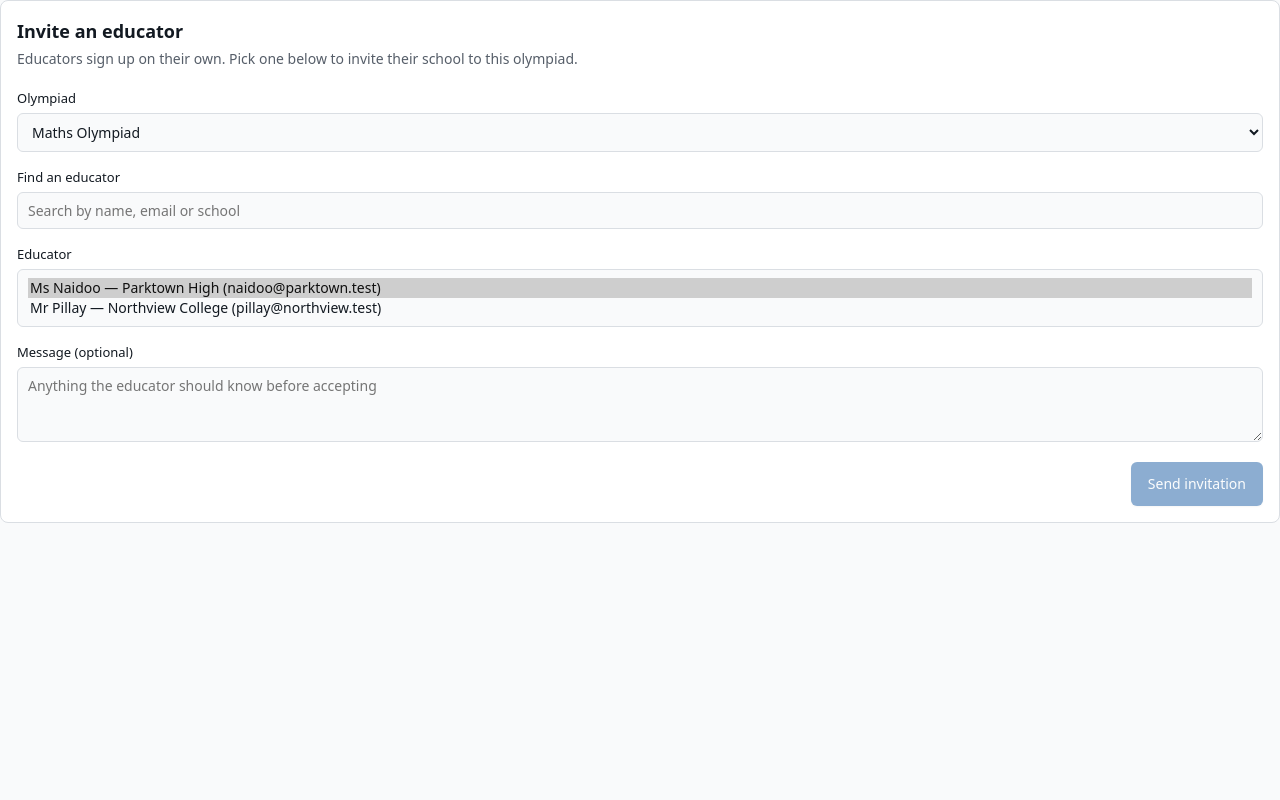
Test: InviteEducatorForm › shows the backend's reason for refusing and stays on the form
Select "Ms Naidoo — Parktown High (naidoo@parktown.test)" in the dropdown labelled "Educator" at (640, 298), box [17,269,1263,327]
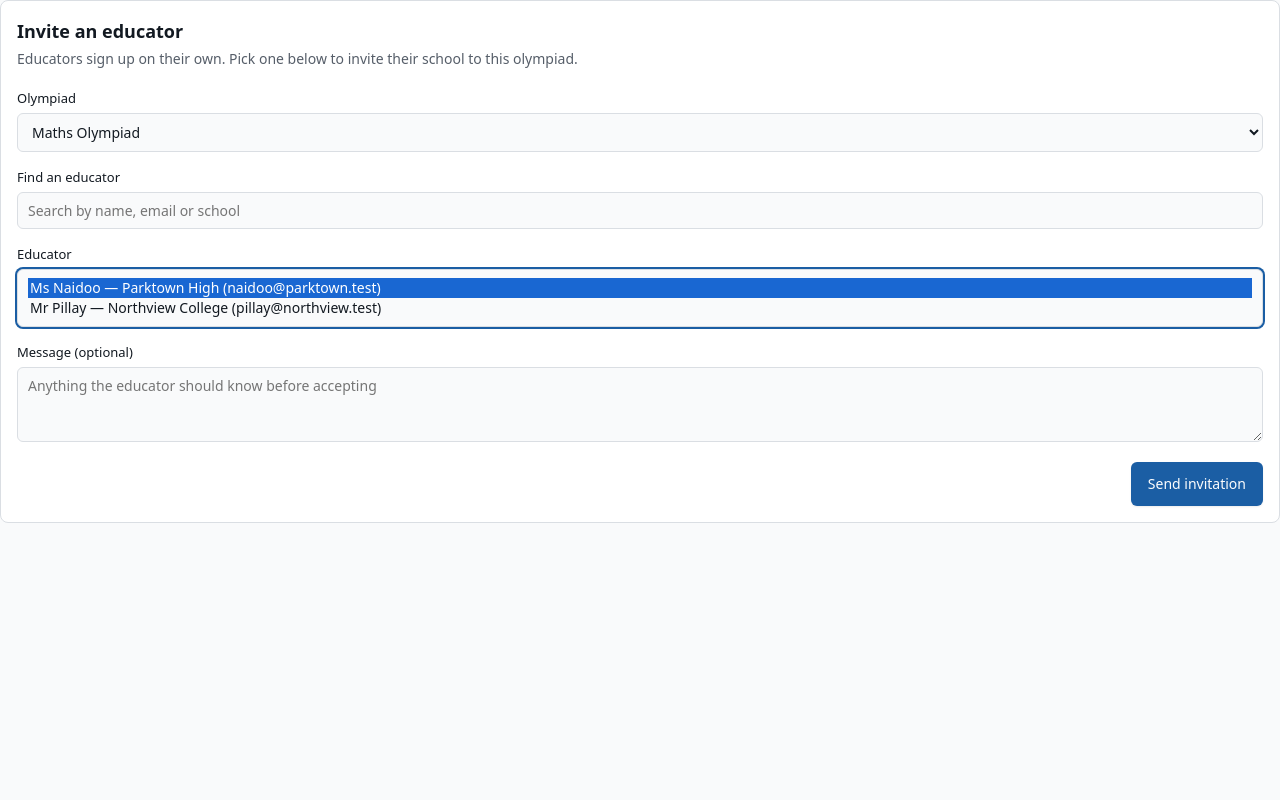
Click the button "Send invitation" at (1197, 484), box [1131,462,1263,506]
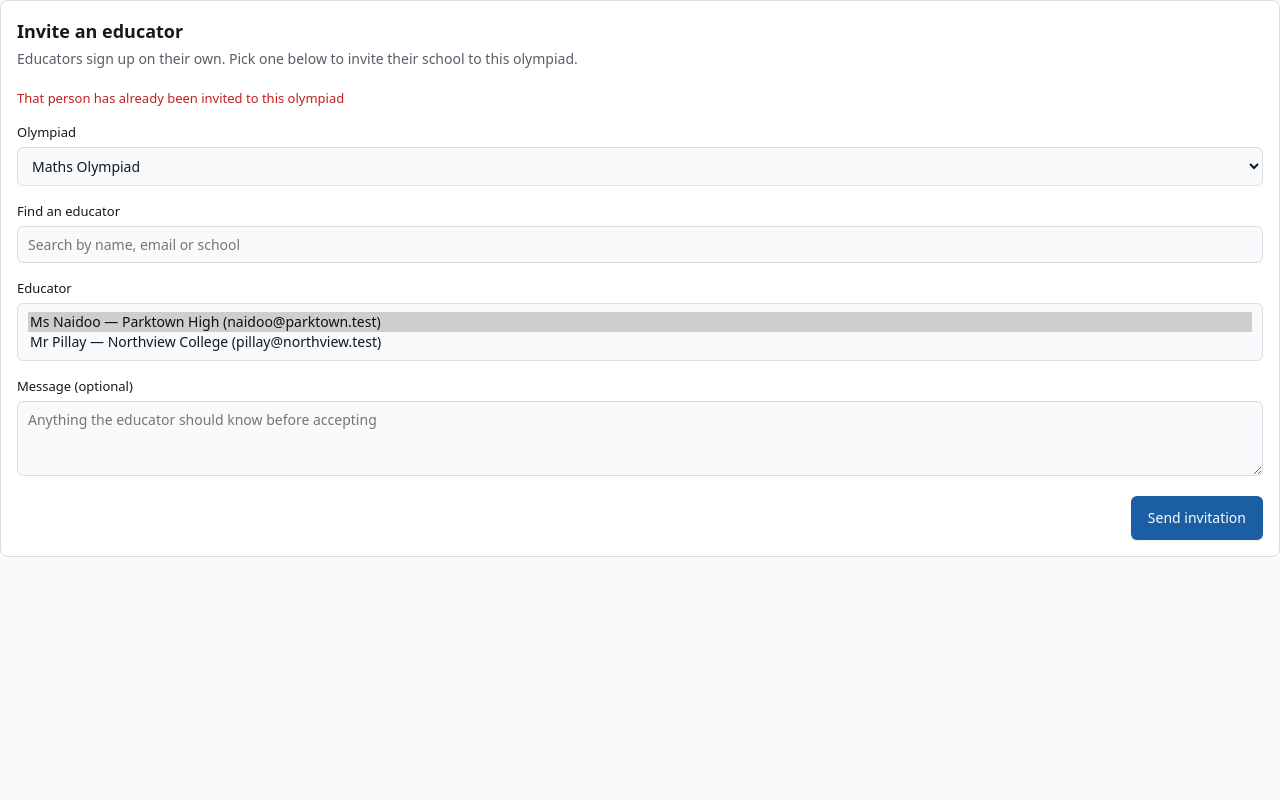
Expected: the button "Send invitation" is shown, [1131,496,1263,540]
Result: the text "That person has already been invited to this olympiad" is shown at [17,89,344,107]
